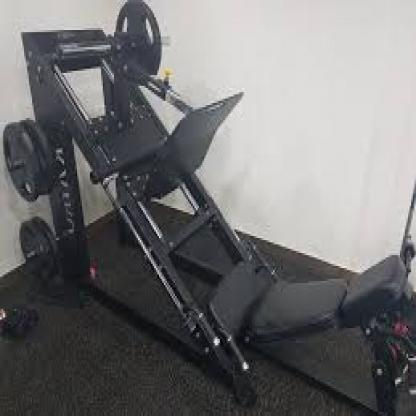leg press: (3, 15, 416, 416)
